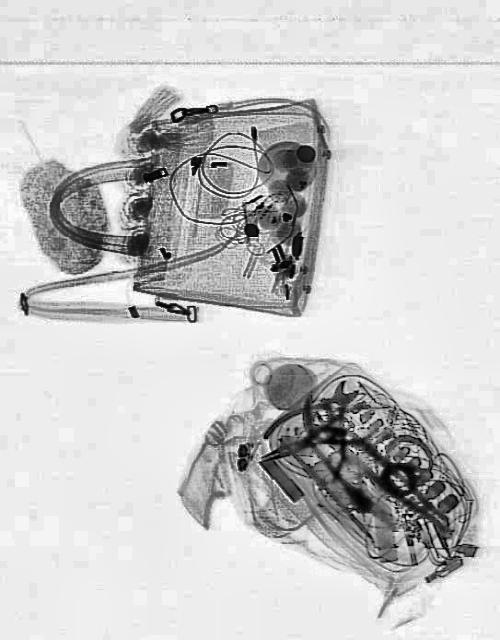Pliers: (259, 352, 381, 494), (255, 398, 381, 477)
